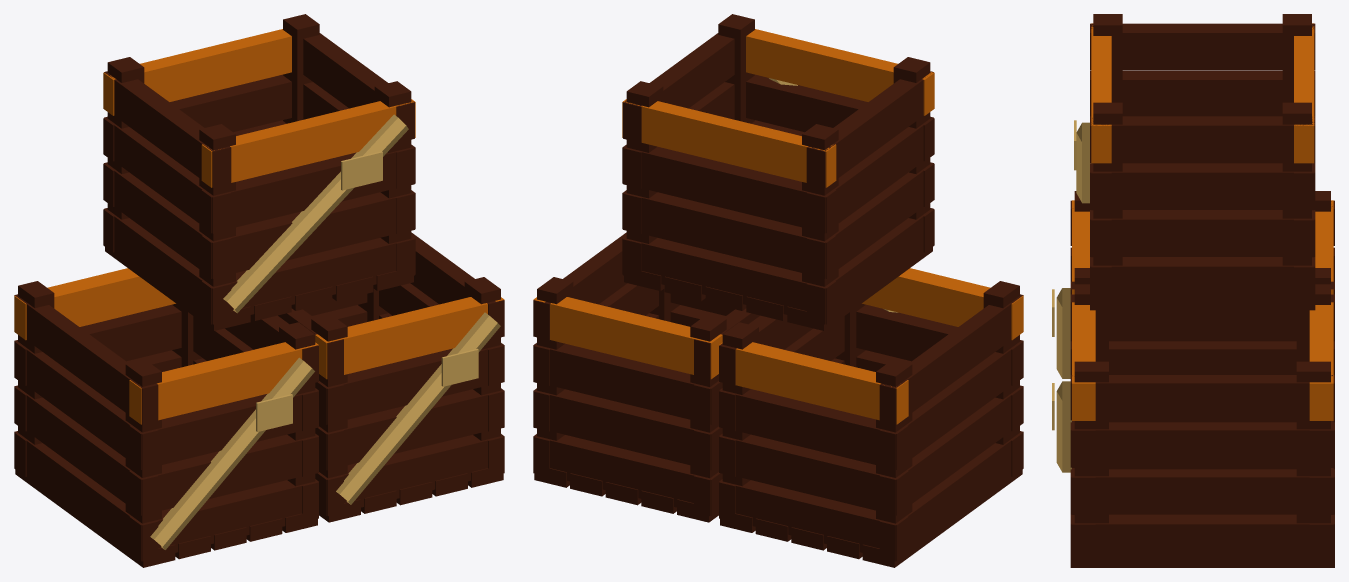
File: crate_stack.fbx
3 renders of one model, left to right at view 1: azimuth 30°, elevation 25°; view 2: azimuth 150°, elevation 25°; view 3: azimuth 270°, elevation 25°, orthographic. The views are drawn at different scales.
Parts seen in each view (by area): view 1: Part_2, Part_0, Part_1; view 2: Part_2, Part_0, Part_1; view 3: Part_1, Part_2, Part_0.
Boxes of the visible parts, bbox=[...] form: Part_2: bbox=[103, 14, 415, 330]; Part_0: bbox=[14, 268, 327, 567]; Part_1: bbox=[278, 232, 504, 522]; Part_2: bbox=[622, 14, 934, 330]; Part_0: bbox=[719, 268, 1023, 567]; Part_1: bbox=[533, 232, 759, 532]; Part_1: bbox=[1052, 278, 1334, 567]; Part_2: bbox=[1074, 14, 1315, 310]; Part_0: bbox=[1052, 191, 1334, 378].
Size of the model in its own units: 2.35 by 2.47 by 1.53.
